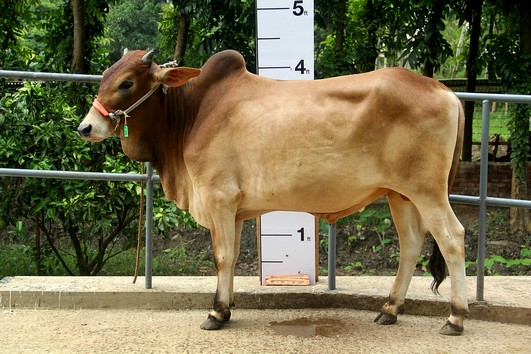cow: (75, 39, 473, 337)
